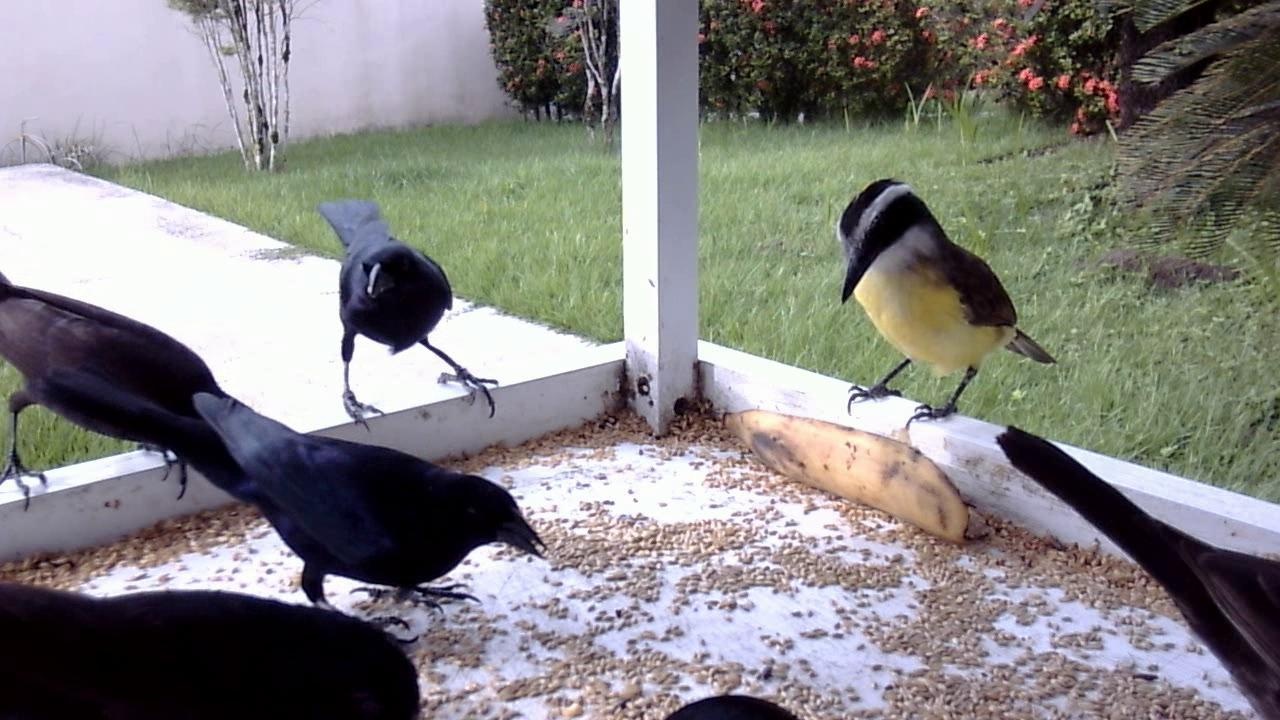bem_te_vi: (825, 171, 1064, 435)
chupim: (190, 386, 547, 638), (1, 261, 270, 568), (304, 188, 504, 435)
